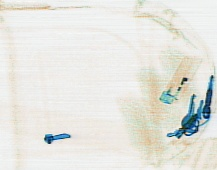lighter: (156, 55, 200, 104)
